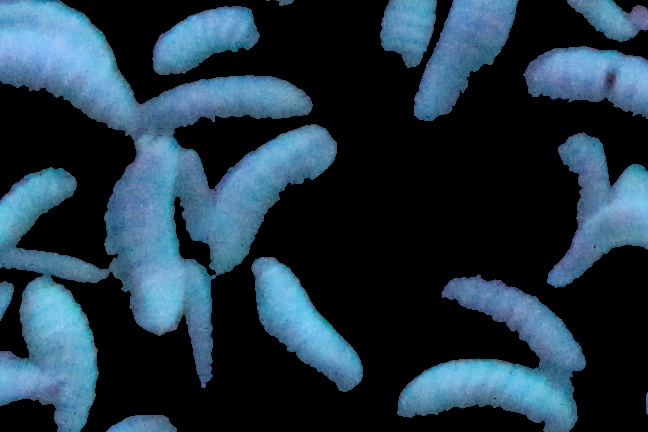larvae: (207, 126, 334, 272), (1, 1, 138, 132), (251, 257, 365, 392), (106, 143, 184, 336), (442, 278, 582, 377), (394, 358, 578, 432), (414, 1, 519, 122), (19, 279, 101, 432), (151, 6, 299, 75), (520, 45, 648, 121), (137, 77, 312, 132), (1, 165, 94, 247), (376, 1, 434, 66), (560, 1, 635, 42)
